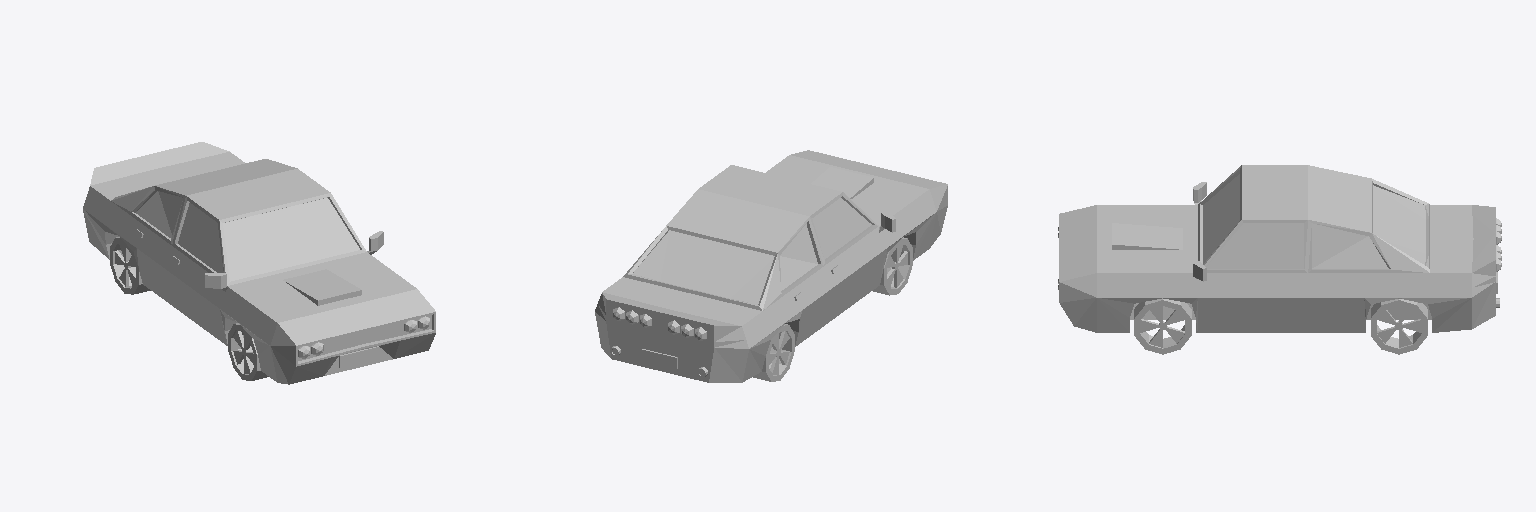
File: muscle_1.obj
3 views of the same model, side by side, from view 1: azimuth 30°, elevation 25°; view 2: azimuth 150°, elevation 25°; view 3: azimuth 270°, elevation 25° (orthographic).
Parts seen in each view (by area): view 1: Muscle; view 2: Muscle; view 3: Muscle.
Boxes of the visible parts, <box> form: Muscle: <box>83,142,435,384</box>; Muscle: <box>595,150,947,382</box>; Muscle: <box>1058,165,1501,354</box>.
Bounding box in the file's own units: 2.81 × 1.91 × 6.06.